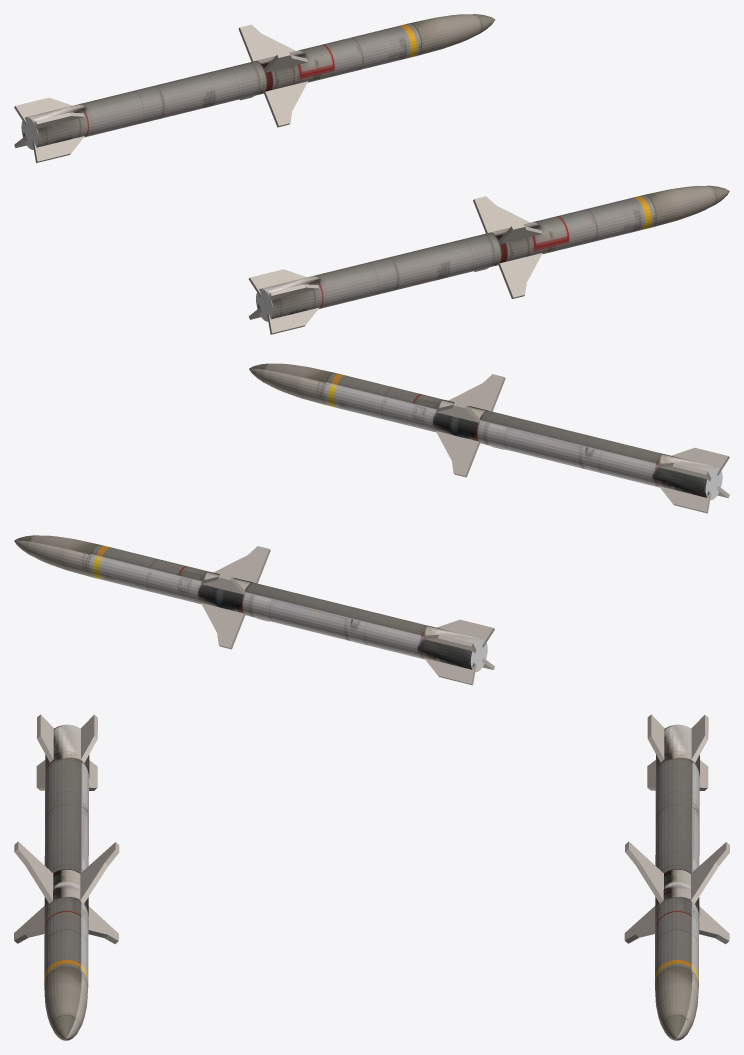
The model's file is f16cagm8823.glb.
3 renders of one model, top to bottom at view 1: azimuth 30°, elevation 25°; view 2: azimuth 150°, elevation 25°; view 3: azimuth 270°, elevation 25°, orthographic. The views are drawn at different scales.
Visible parts, largest first — view 1: 円柱.001, 円柱.098; view 2: 円柱.001, 円柱.098; view 3: 円柱.001, 円柱.098.
Part boxes in pixels (x1,y1,x2,y2): 円柱.001: [14, 14, 495, 162]; 円柱.098: [248, 185, 729, 334]; 円柱.001: [14, 535, 494, 685]; 円柱.098: [249, 363, 729, 513]; 円柱.001: [624, 714, 729, 1040]; 円柱.098: [14, 714, 119, 1040].
Bounding box in the file's own units: 4.9 × 0.7319 × 4.97.
2 materials, 1 textured.
